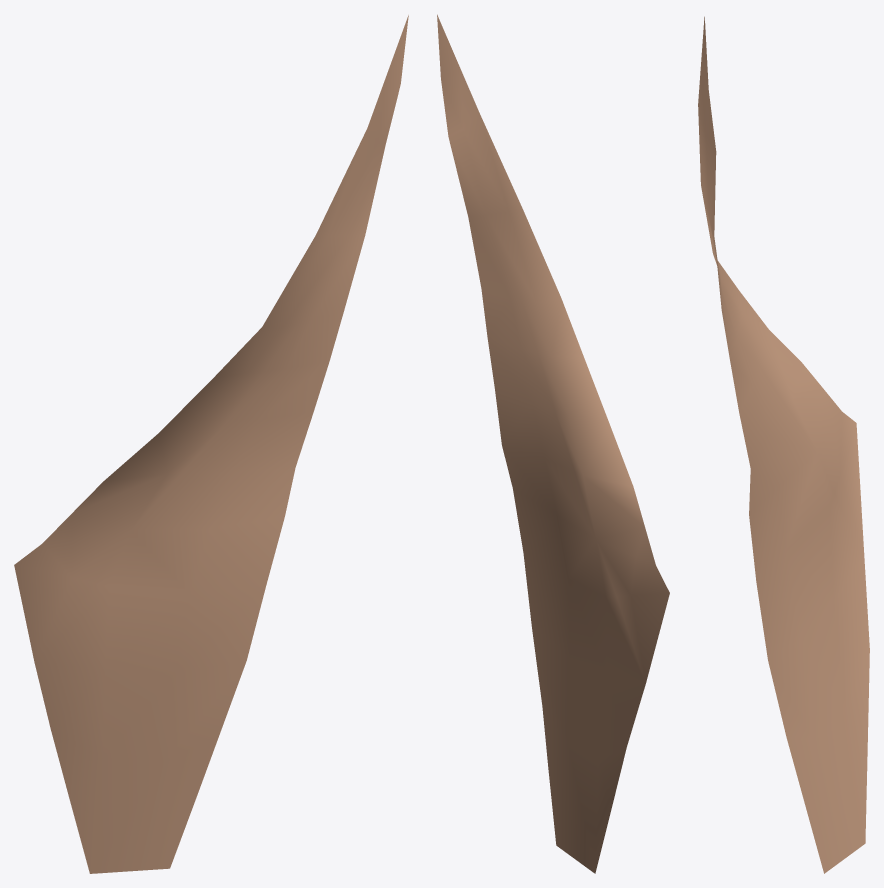
The model's file is femoral-triangle-l.glb.
The picture shows the model from 3 angles, left to right: view 1: azimuth 30°, elevation 25°; view 2: azimuth 150°, elevation 25°; view 3: azimuth 270°, elevation 25°; orthographic projection. The views are drawn at different scales.
Visible parts, largest first — view 1: Femoral triangle.l; view 2: Femoral triangle.l; view 3: Femoral triangle.l.
Part boxes in pixels (x1,y1,x2,y2): Femoral triangle.l: (14,15,408,873); Femoral triangle.l: (437,14,669,873); Femoral triangle.l: (698,16,869,873).
Bounding box in the file's own units: 0.0732 × 0.1816 × 0.0292.
